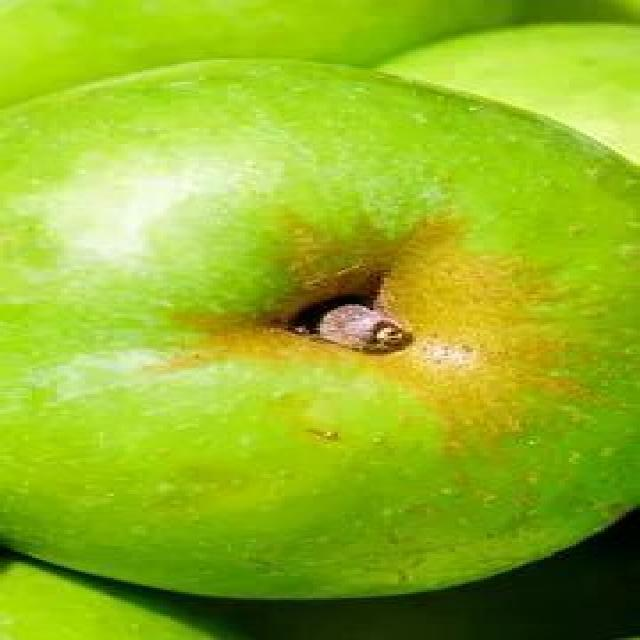Fresh Apple: (6, 63, 640, 614)
